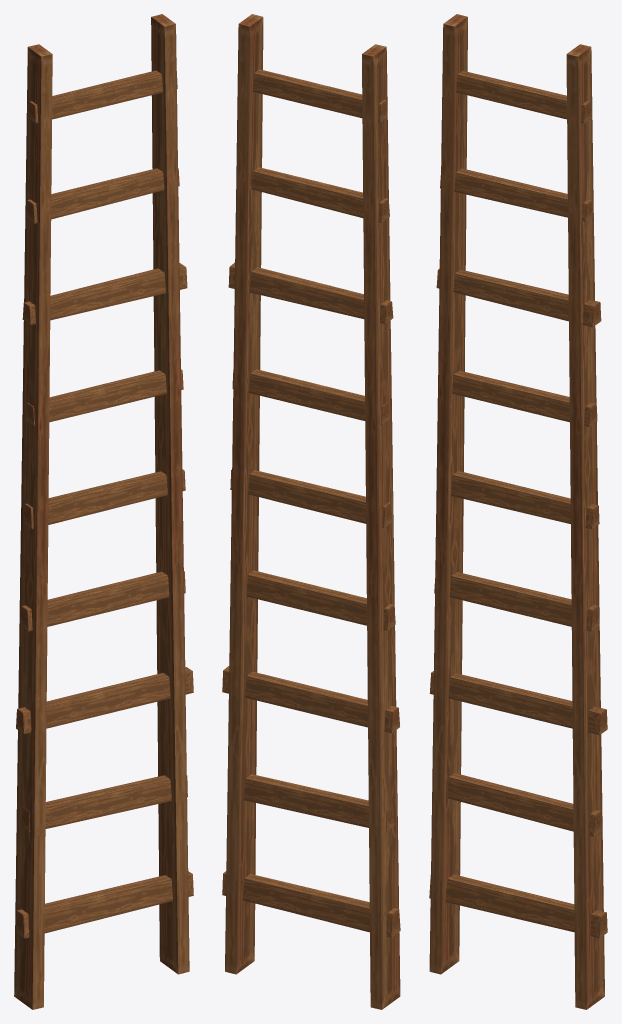
Rendered from Ladder.gltf.
The picture shows the model from 3 angles, left to right: view 1: azimuth 30°, elevation 25°; view 2: azimuth 150°, elevation 25°; view 3: azimuth 330°, elevation 25°; orthographic projection.
Visible parts, largest first — view 1: Ladder; view 2: Ladder; view 3: Ladder.
Part boxes in pixels (x1,y1,x2,y2): Ladder: (14, 14, 193, 1009); Ladder: (222, 14, 400, 1009); Ladder: (429, 14, 607, 1009).
Bounding box in the file's own units: 0.5472 × 2.92 × 0.1028.
1 material, 1 textured.
